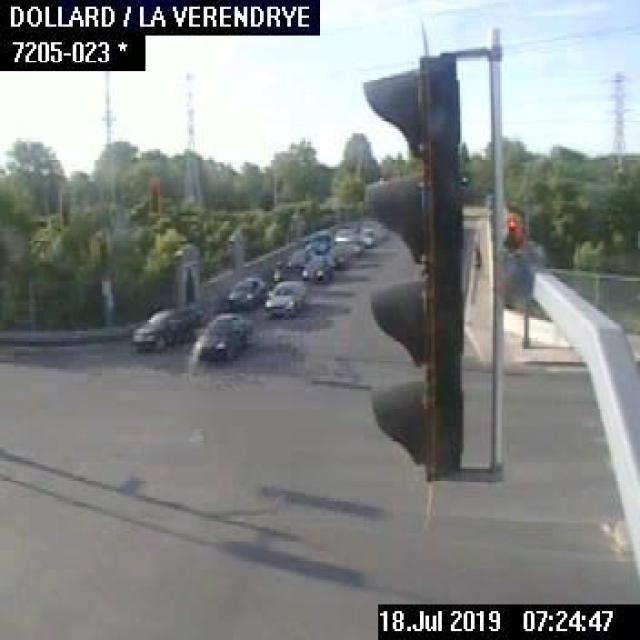vehicle: (131, 304, 189, 346), (194, 314, 246, 356), (227, 272, 267, 314), (264, 277, 302, 317), (302, 249, 334, 280), (324, 241, 351, 270), (286, 247, 309, 267), (333, 224, 353, 245), (359, 226, 376, 250), (272, 257, 286, 279), (346, 236, 360, 255)
